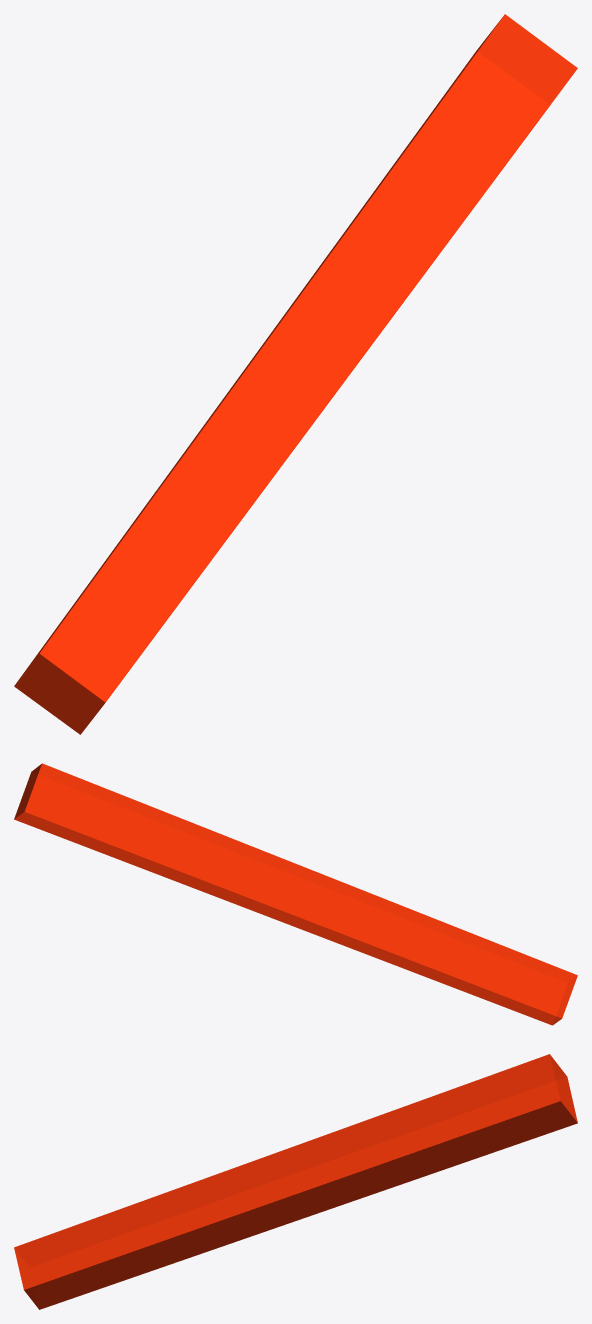
File: Event_420094457_EBrechit_25.fbx
The picture shows the model from 3 angles, top to bottom: view 1: azimuth 30°, elevation 25°; view 2: azimuth 150°, elevation 25°; view 3: azimuth 330°, elevation 25°; orthographic projection. The views are drawn at different scales.
Visible parts, largest first — view 1: Model; view 2: Model; view 3: Model.
Part boxes in pixels (x1,y1,x2,y2): Model: [14, 14, 577, 734]; Model: [14, 763, 577, 1025]; Model: [14, 1054, 577, 1309].
Bounding box in the file's own units: 0.6049 × 0.341 × 0.3756.
